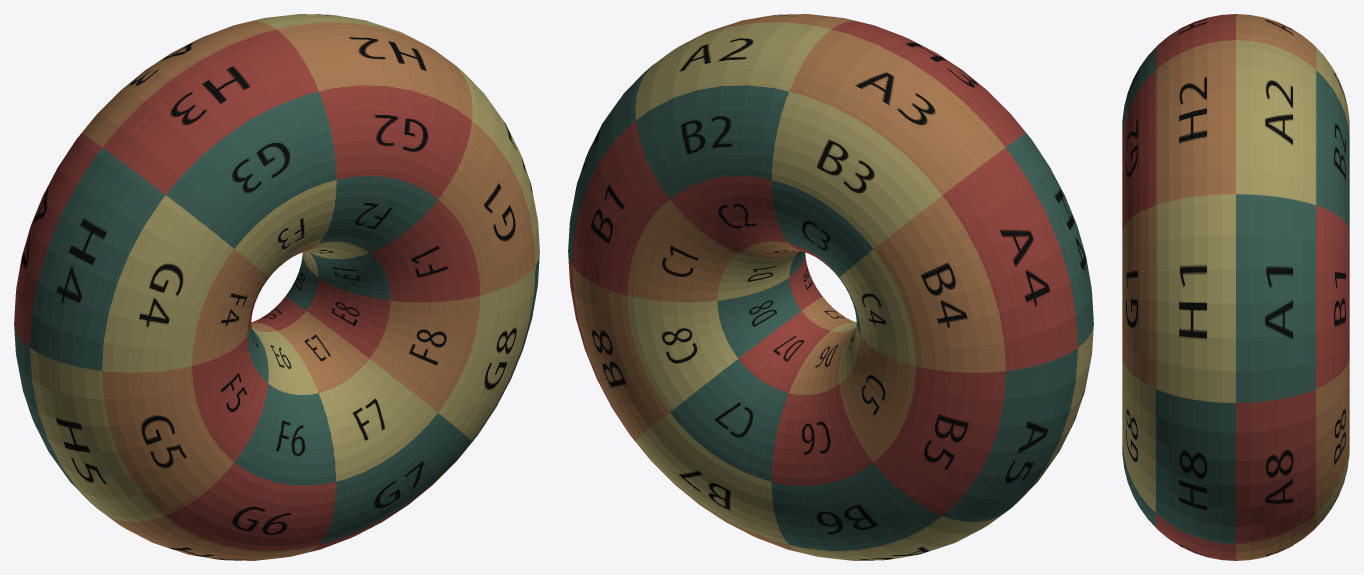
The model's file is texture_torus_R1_r21.glb.
The picture shows the model from 3 angles, left to right: view 1: azimuth 30°, elevation 25°; view 2: azimuth 150°, elevation 25°; view 3: azimuth 270°, elevation 25°; orthographic projection. The views are drawn at different scales.
Visible parts, largest first — view 1: world; view 2: world; view 3: world.
Part boxes in pixels (x1,y1,x2,y2): world: (14,14,539,560); world: (568,14,1093,560); world: (1122,14,1349,560).
Bounding box in the file's own units: 18.27 × 18.23 × 7.59.
Materials: 1 (1 with a texture image).
